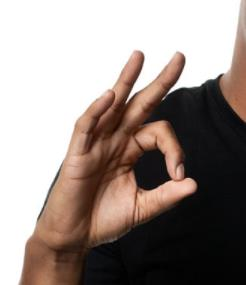left: (27, 46, 200, 247)
